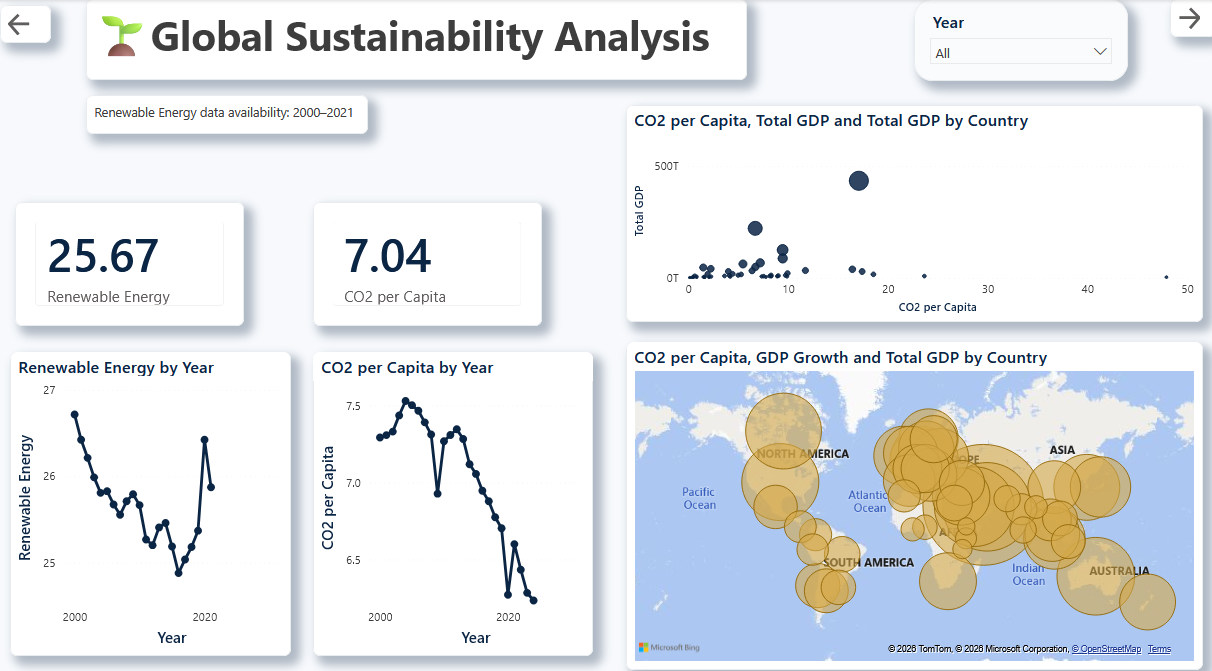

This screenshot's page, from the dashboard's own definition file:
{"tool":"powerbi","page":{"name":"🌱 Sustainability","canvas":[1280,720],"ordinal":2},"visuals":[{"type":"textbox","box":[90.6,0,695.7,85.1],"z":0},{"type":"slicer","fields":{"Values":["Dim_Year.Year"]},"box":[961.9,0,225,86.4],"z":1000},{"type":"cardVisual","fields":{"Data":["Measure Table.CO₂ per Capita"]},"box":[328.6,212.9,241.4,131.4],"z":2000},{"type":"cardVisual","fields":{"Data":["Measure Table.Renewable Energy"]},"box":[15.7,213.4,241.4,131.4],"z":3000},{"type":"textbox","box":[90.6,101.5,296.4,41.2],"z":4000},{"type":"lineChart","fields":{"Y":["Measure Table.CO₂ per Capita"],"Category":["Dim_Year.Year"]},"box":[328.6,371.4,295.7,320],"z":5000},{"type":"map","fields":{"Category":["Dim_Country.Country"],"Size":["Measure Table.CO₂ per Capita"]},"box":[658.6,360,607.1,345.7],"z":6000},{"type":"scatterChart","fields":{"X":["Measure Table.CO₂ per Capita"],"Y":["Measure Table.Total GDP"],"Category":["Dim_Country.Country"],"Size":["Measure Table.Total GDP"]},"box":[658.6,111.4,607.1,228.6],"z":7000},{"type":"lineChart","fields":{"Category":["Dim_Year.Year"],"Y":["Measure Table.Renewable Energy"]},"box":[10,371.4,295.7,320],"z":8000},{"type":"actionButton","box":[1232,0,48,39.8],"z":9000},{"type":"actionButton","box":[0,6.9,53.5,39.8],"z":9001}]}

Visuals, with their boxes in screenshot pixels (x1, y1, x2, y2), scaled from the page's 1280x720 canvas onto the 1212x671 screenshot:
textbox: (86,0,745,79)
slicer - Dim_Year.Year: (911,0,1124,81)
cardVisual - Measure Table.CO₂ per Capita: (311,198,540,321)
cardVisual - Measure Table.Renewable Energy: (15,199,243,321)
textbox: (86,95,366,133)
lineChart - Measure Table.CO₂ per Capita x Dim_Year.Year: (311,346,591,644)
map - Dim_Country.Country x Measure Table.CO₂ per Capita: (624,336,1198,658)
scatterChart - Measure Table.CO₂ per Capita x Measure Table.Total GDP: (624,104,1198,317)
lineChart - Dim_Year.Year x Measure Table.Renewable Energy: (9,346,289,644)
actionButton: (1167,0,1211,37)
actionButton: (0,6,51,44)
